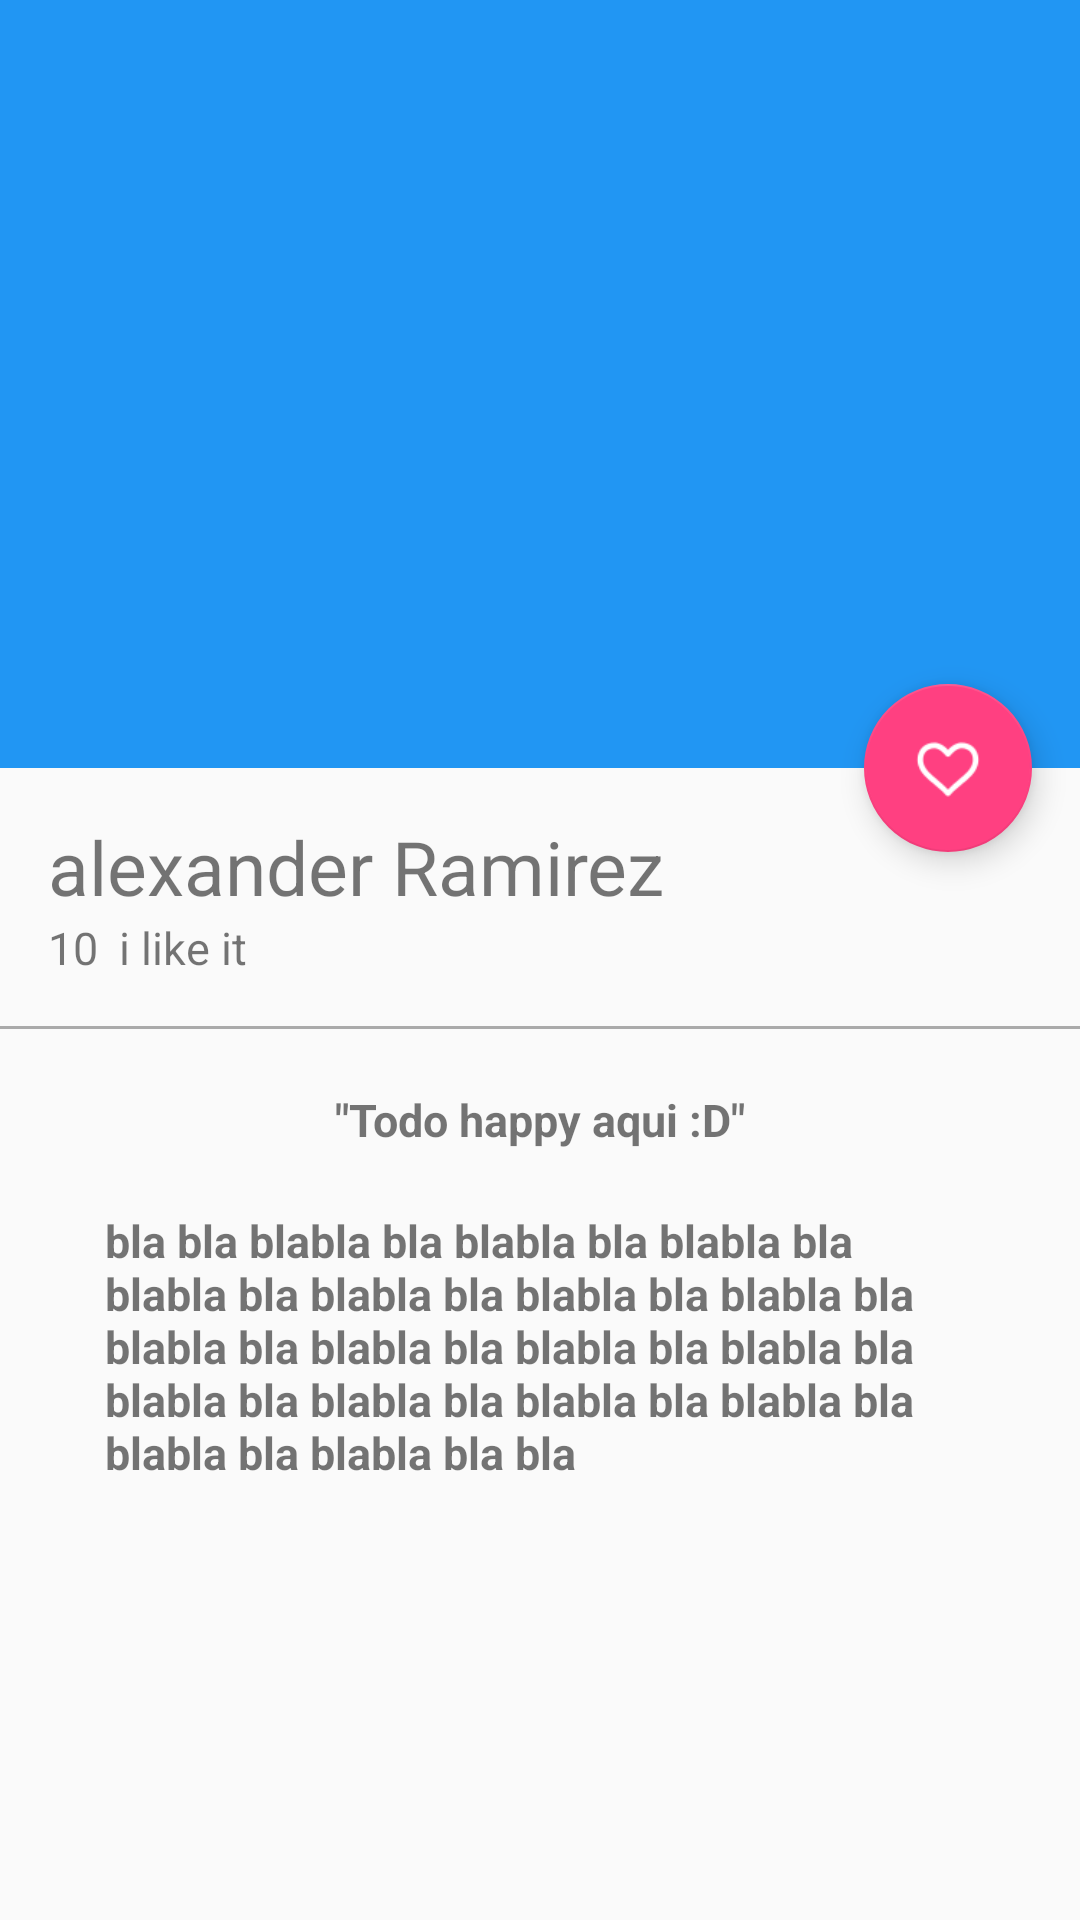

Point at icon controls on the screen. Image size 1080w x 1920h, points as (x,y).
corz: (948,768)
